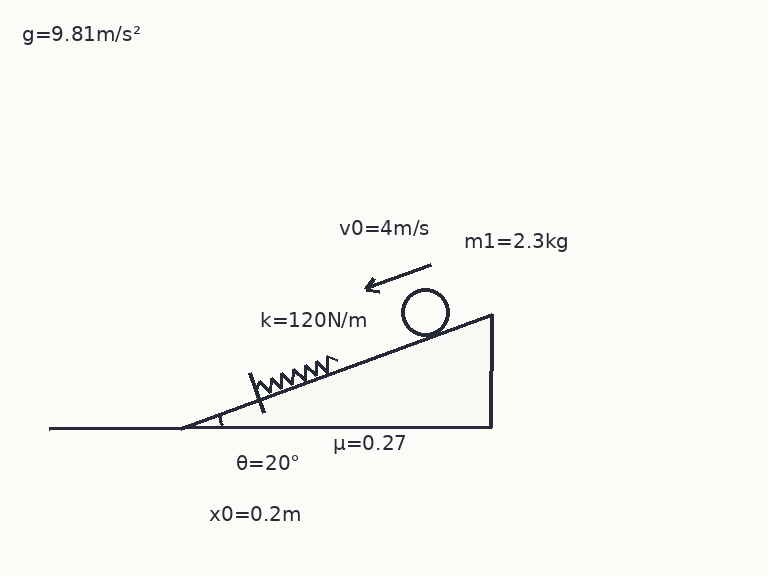ball: (399, 286, 451, 338)
ramp: (179, 312, 493, 429)
spring: (253, 355, 338, 395)
